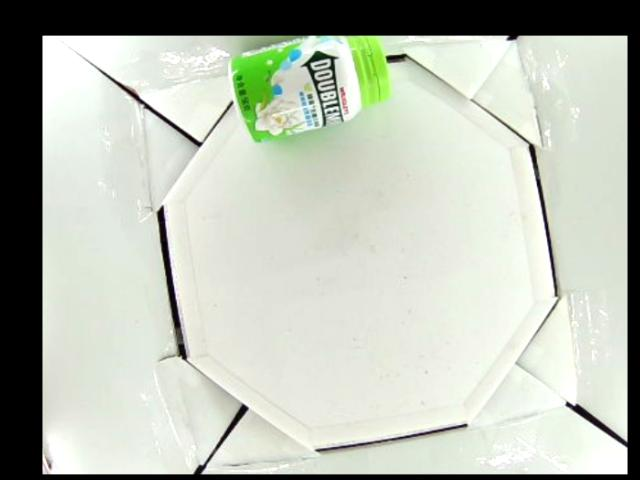Bottle: (227, 36, 392, 145)
